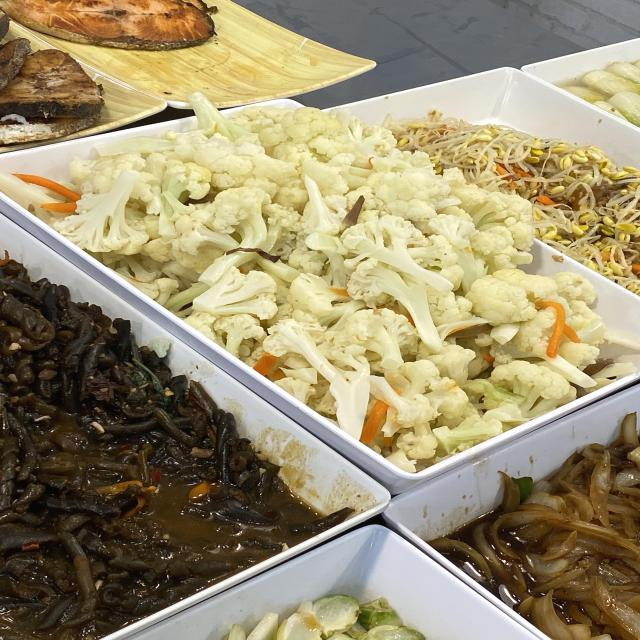cauliflower: (180, 153, 433, 323)
